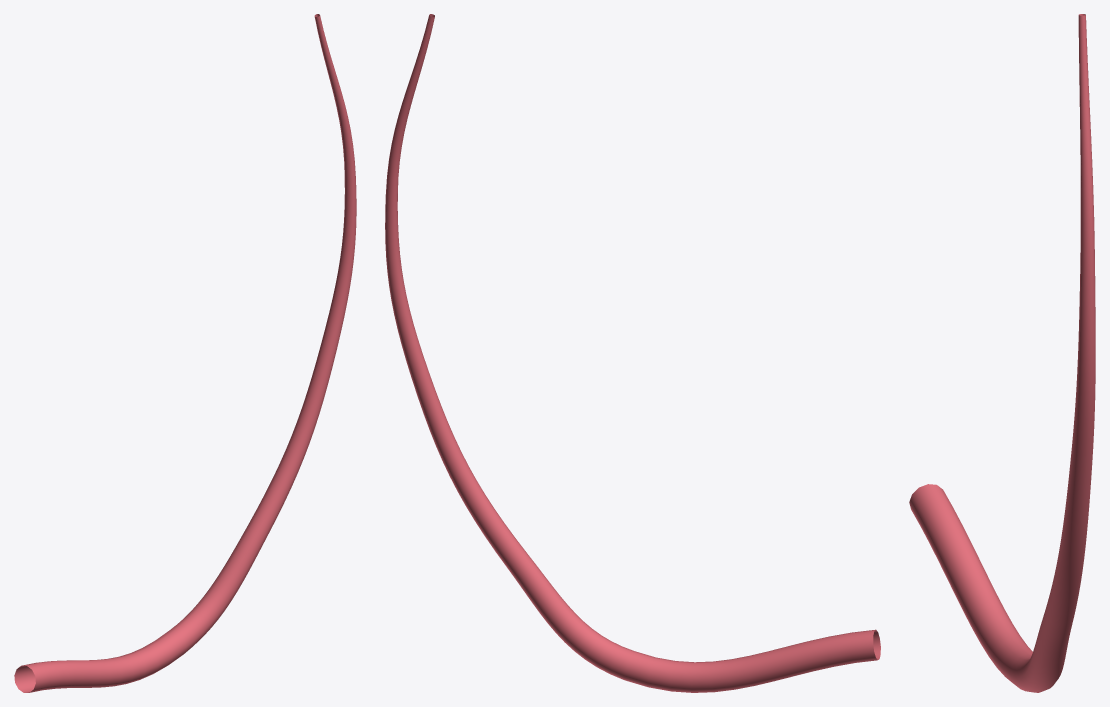
The picture shows the model from 3 angles, left to right: view 1: azimuth 30°, elevation 25°; view 2: azimuth 150°, elevation 25°; view 3: azimuth 270°, elevation 25°; orthographic projection. The views are drawn at different scales.
Visible parts, largest first — view 1: ZA_5debbb4cf00099a6; view 2: ZA_5debbb4cf00099a6; view 3: ZA_5debbb4cf00099a6.
Part boxes in pixels (box(x1,y1,x2,y2)): ZA_5debbb4cf00099a6: box(14, 14, 356, 692); ZA_5debbb4cf00099a6: box(385, 14, 880, 692); ZA_5debbb4cf00099a6: box(909, 14, 1095, 692).
Bounding box in the file's own units: 0.0161 × 0.023 × 0.00493.
